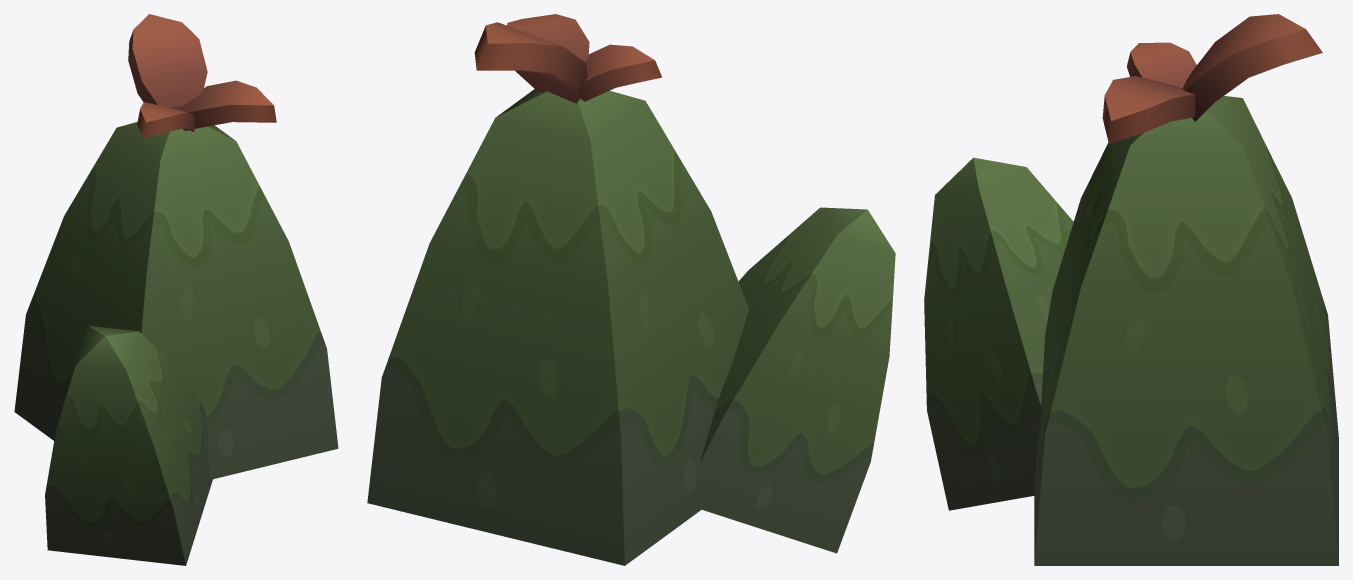
The model's file is BG_061_cactus.FBX.
3 views of the same model, side by side, from view 1: azimuth 30°, elevation 25°; view 2: azimuth 150°, elevation 25°; view 3: azimuth 270°, elevation 25° (orthographic). The views are drawn at different scales.
Visible parts, largest first — view 1: BG_061_cactus; view 2: BG_061_cactus; view 3: BG_061_cactus.
Boxes of the visible parts, x1,y1,x2,y2 form: BG_061_cactus: [14, 14, 338, 565]; BG_061_cactus: [367, 14, 895, 565]; BG_061_cactus: [924, 14, 1338, 565].
Bounding box in the file's own units: 101 × 141 × 97.05.
